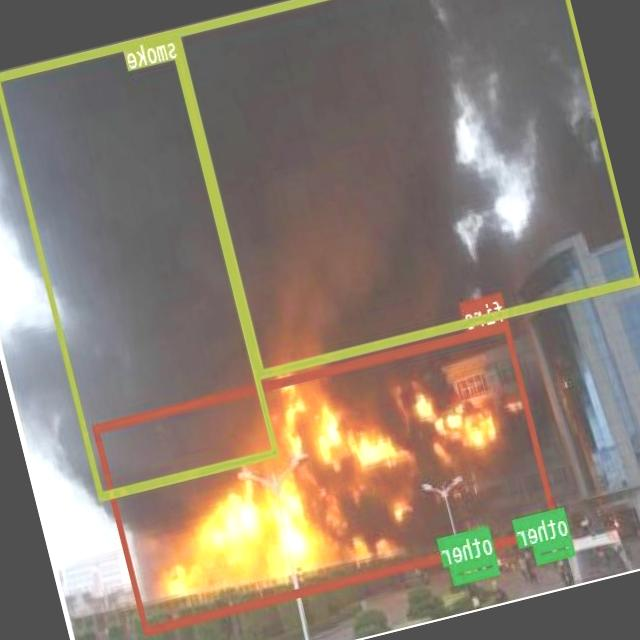fire: (92, 320, 560, 632)
smoke: (174, 0, 640, 376), (0, 27, 279, 499)
